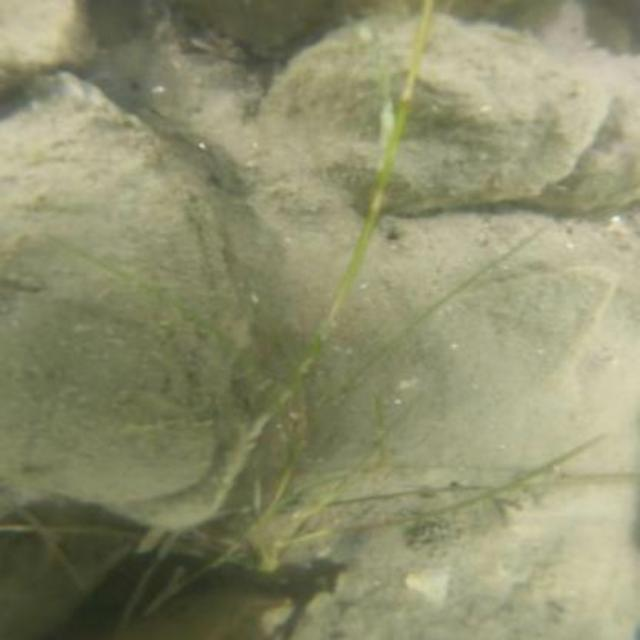Oyster-Closed: (391, 18, 593, 211), (240, 12, 424, 211), (314, 528, 637, 638), (540, 99, 632, 209)
Oyster-Open: (0, 103, 254, 533)
